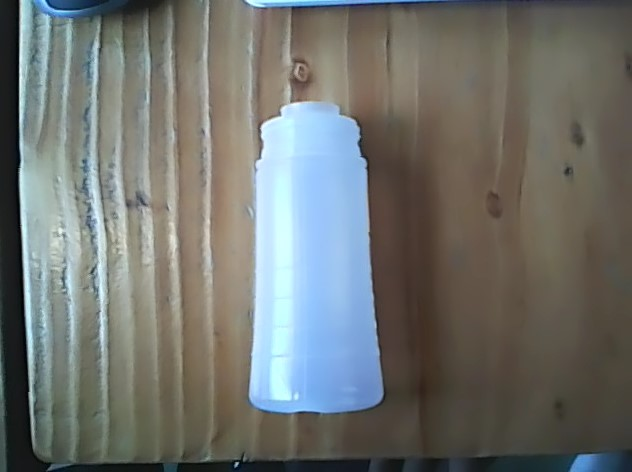Plastic: (244, 97, 387, 419)
